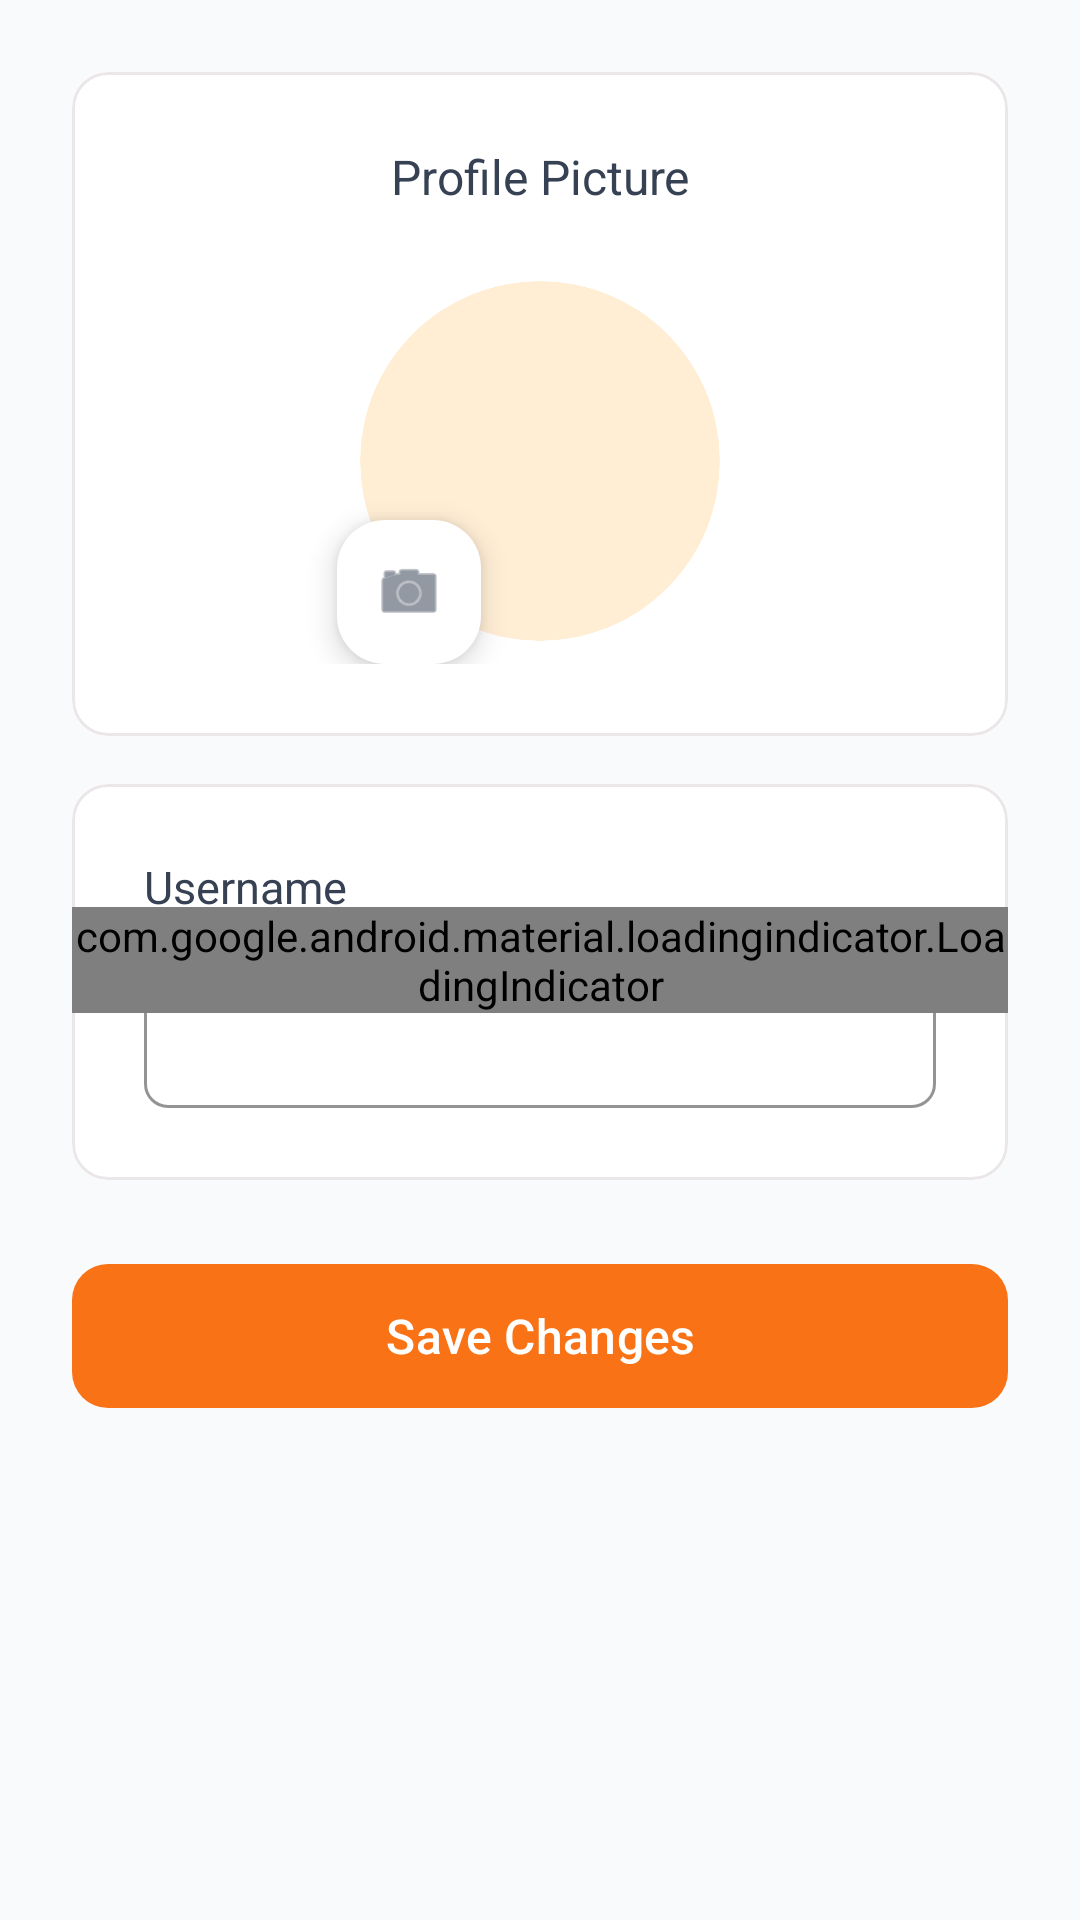

Point at icon controls on the screen. Image size 1080px×1920px, points as [x,y].
camera: [409,592]
